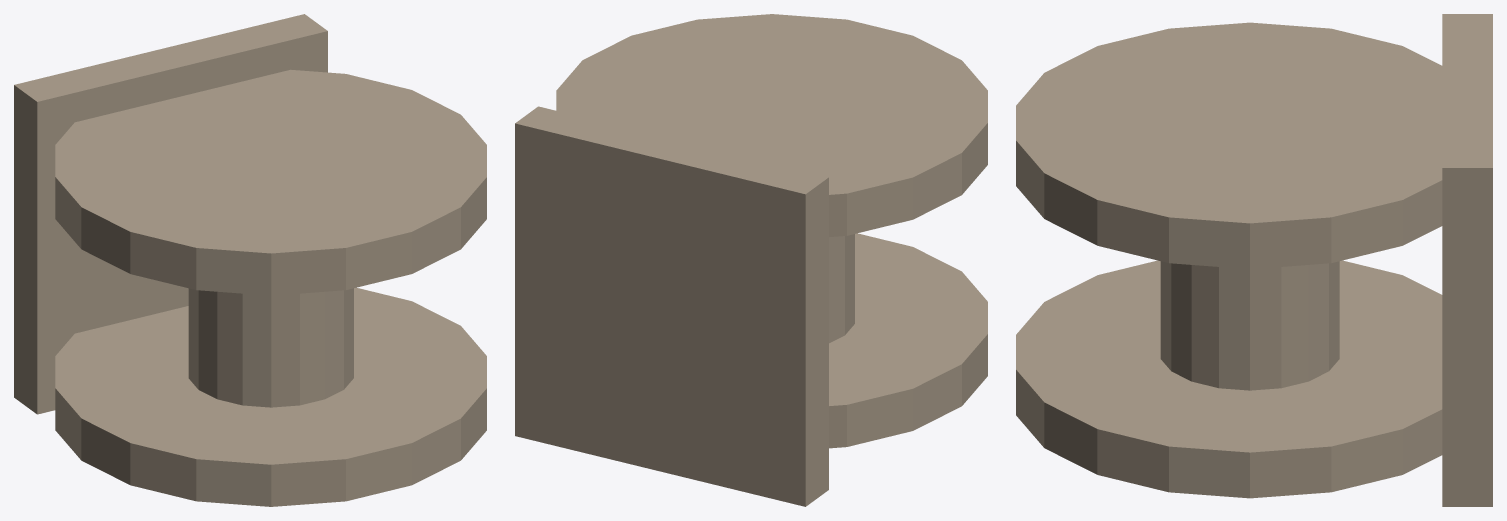
The model's file is electrical-cable-reel_lod1.glb.
3 renders of one model, left to right at view 1: azimuth 30°, elevation 25°; view 2: azimuth 150°, elevation 25°; view 3: azimuth 270°, elevation 25°, orthographic. The views are drawn at different scales.
Visible parts, largest first — view 1: world; view 2: world; view 3: world.
Boxes of the visible parts, bbox=[...] form: world: bbox=[14, 14, 486, 506]; world: bbox=[515, 14, 987, 506]; world: bbox=[1016, 14, 1492, 506].
Bounding box in the file's own units: 0.94 × 0.74 × 0.9429.
